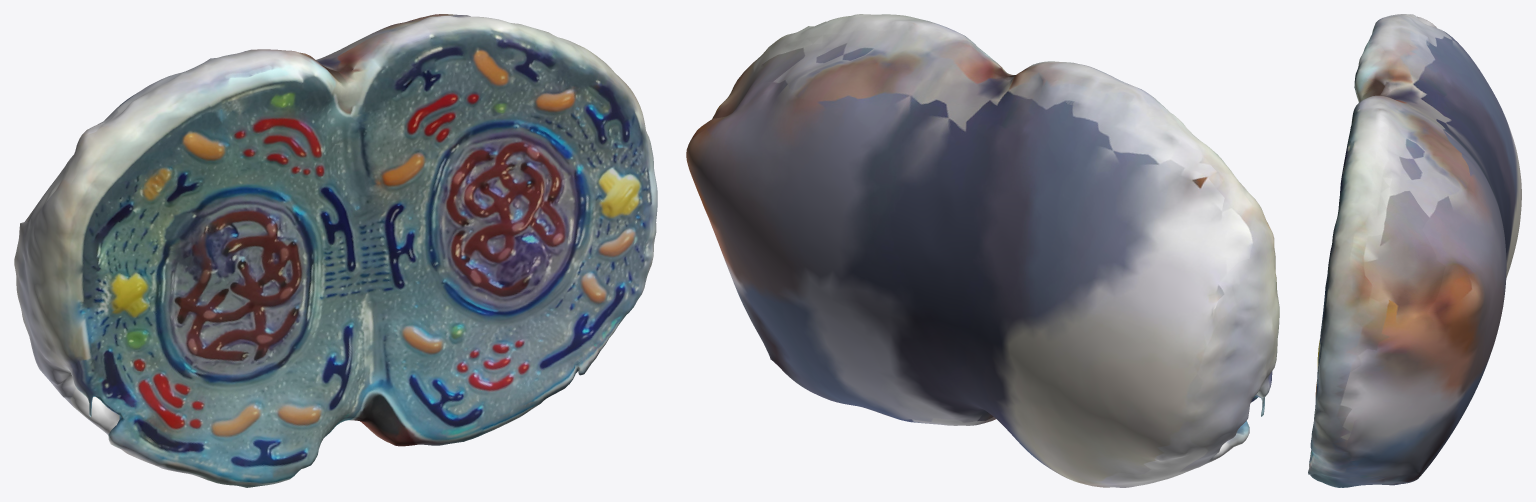
The model's file is mitosis.glb.
3 renders of one model, left to right at view 1: azimuth 30°, elevation 25°; view 2: azimuth 150°, elevation 25°; view 3: azimuth 270°, elevation 25°, orthographic. The views are drawn at different scales.
Visible parts, largest first — view 1: Object_2; view 2: Object_2; view 3: Object_2.
Part boxes in pixels (x1,y1,x2,y2): Object_2: (14,14,657,487); Object_2: (686,14,1279,487); Object_2: (1308,14,1521,487).
Size of the model in its own units: 157 by 106 by 56.32.
Materials: 1 (1 with a texture image).
